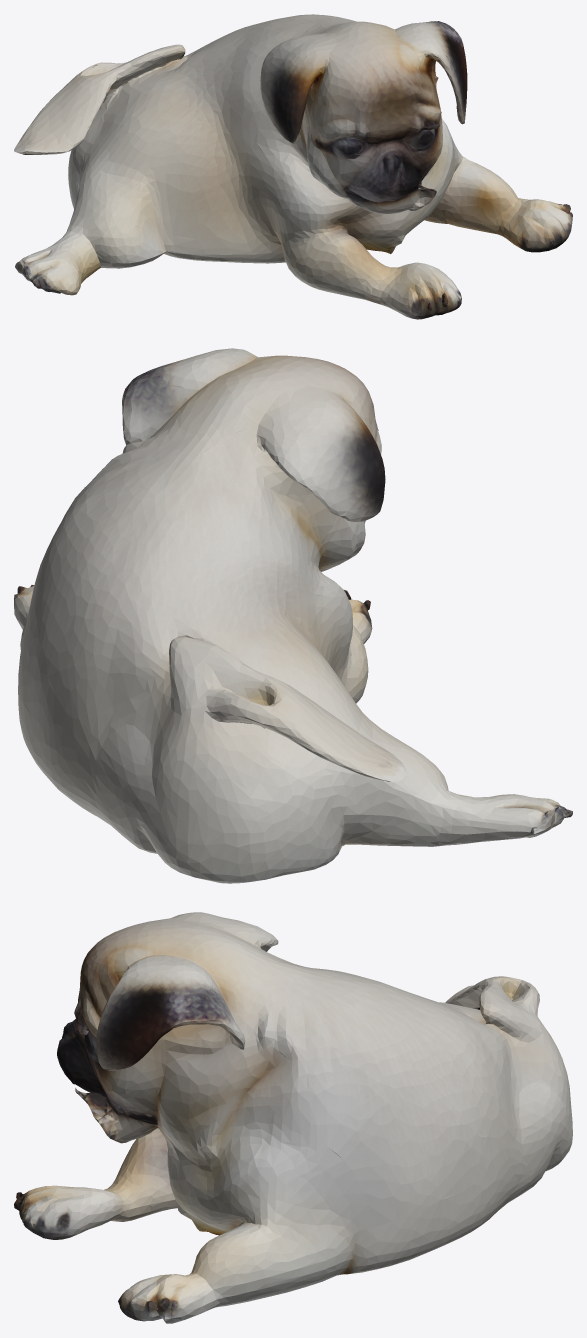
The model's file is sample.glb.
The picture shows the model from 3 angles, top to bottom: view 1: azimuth 30°, elevation 25°; view 2: azimuth 150°, elevation 25°; view 3: azimuth 270°, elevation 25°; orthographic projection. The views are drawn at different scales.
Parts seen in each view (by area): view 1: world; view 2: world; view 3: world.
Boxes of the visible parts, x1=… form: world: x1=14, y1=14, x2=572, y2=319; world: x1=14, y1=348, x2=572, y2=883; world: x1=14, y1=912, x2=572, y2=1323.
Size of the model in its own units: 1 by 0.4925 by 0.8505.
Materials: 1 (1 with a texture image).
